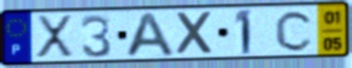1: (233, 8, 254, 56)
3: (78, 12, 113, 59)
A: (122, 11, 178, 59)
C: (274, 8, 316, 53)
X: (175, 9, 216, 57), (34, 13, 75, 60)
